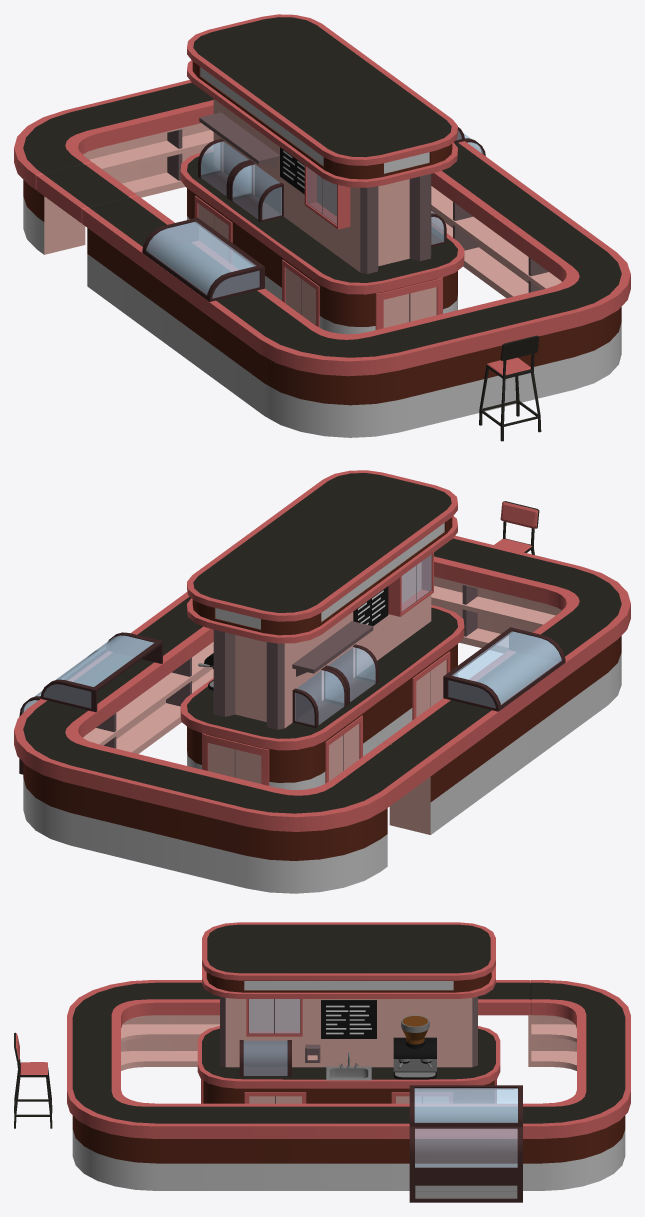
The model's file is airport-cafe.glb.
3 views of the same model, one above another, from view 1: azimuth 30°, elevation 25°; view 2: azimuth 150°, elevation 25°; view 3: azimuth 270°, elevation 25° (orthographic). The views are drawn at different scales.
Visible parts, largest first — view 1: 13.Cafe_AIRPORT_0; view 2: 13.Cafe_AIRPORT_0; view 3: 13.Cafe_AIRPORT_0.
Part boxes in pixels (x1=…): 13.Cafe_AIRPORT_0: x1=14, y1=14, x2=630, y2=441; 13.Cafe_AIRPORT_0: x1=14, y1=470, x2=630, y2=893; 13.Cafe_AIRPORT_0: x1=14, y1=922, x2=630, y2=1202.
Bounding box in the file's own units: 6.91 × 3.56 × 11.6.
1 material, 1 textured.
